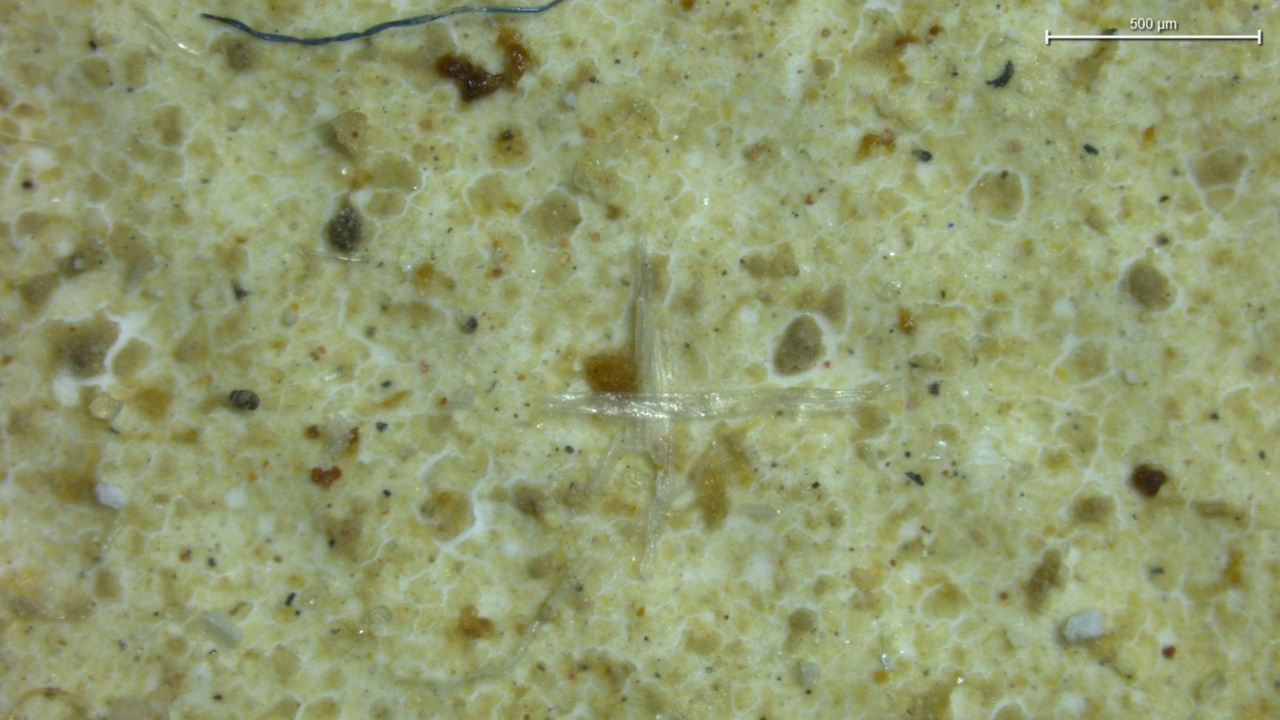microplastic_fragment: (1062, 609, 1105, 644), (94, 483, 127, 509)
